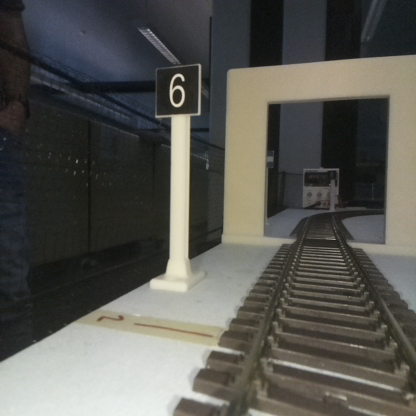black-info-6: (156, 65, 198, 286)
start: (266, 151, 273, 222)
